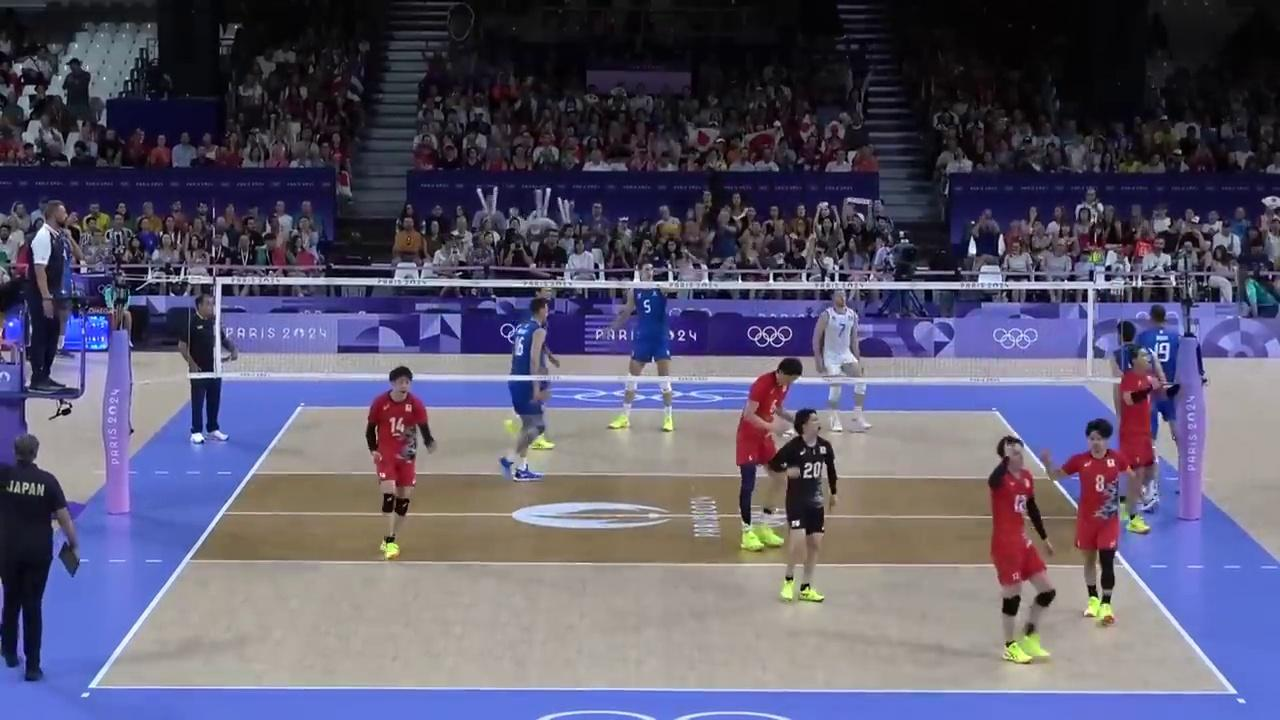ball: (662, 224, 680, 236)
